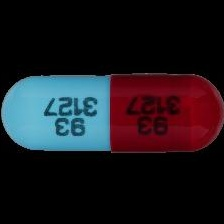42291-234: (0, 0, 224, 224)
